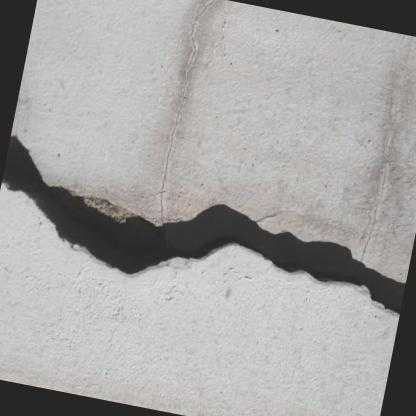crack: (1, 134, 406, 316), (160, 0, 216, 222)
